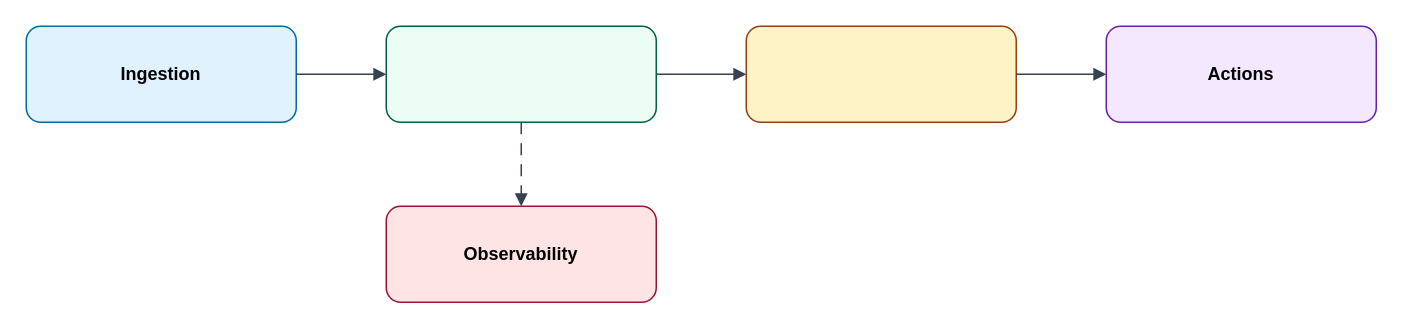
Some shapes in this 1403 by 329 pixel diagram are drawn without their labels. Here are the shapes that lost their labels. From the top down, the centre of each, then its label:
At pixel 520 73: "Correlation".
At pixel 880 73: "Guardrails".
